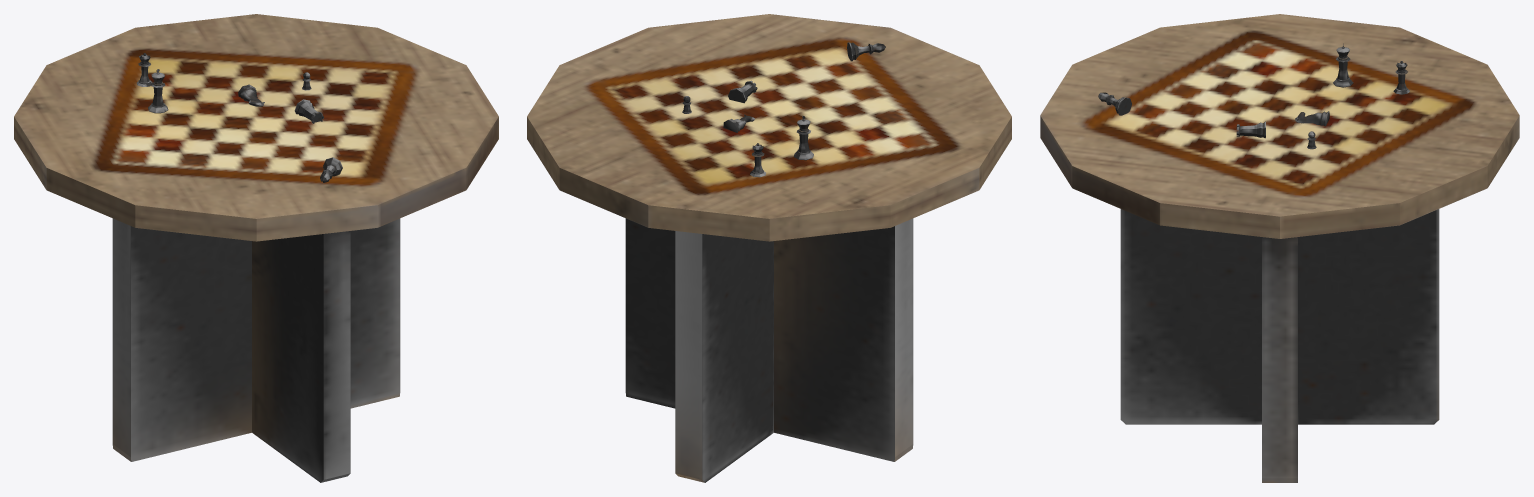
File: ChessTable.fbx
3 views of the same model, side by side, from view 1: azimuth 30°, elevation 25°; view 2: azimuth 150°, elevation 25°; view 3: azimuth 270°, elevation 25° (orthographic).
Parts seen in each view (by area): view 1: ChessTable; view 2: ChessTable; view 3: ChessTable.
Part boxes in pixels (box(x1,y1,x2,y2)): ChessTable: box(14, 14, 498, 482); ChessTable: box(527, 14, 1011, 482); ChessTable: box(1040, 14, 1519, 482).
Size of the model in its own units: 1.81 by 1.43 by 1.81.
Materials: 1 (1 with a texture image).
